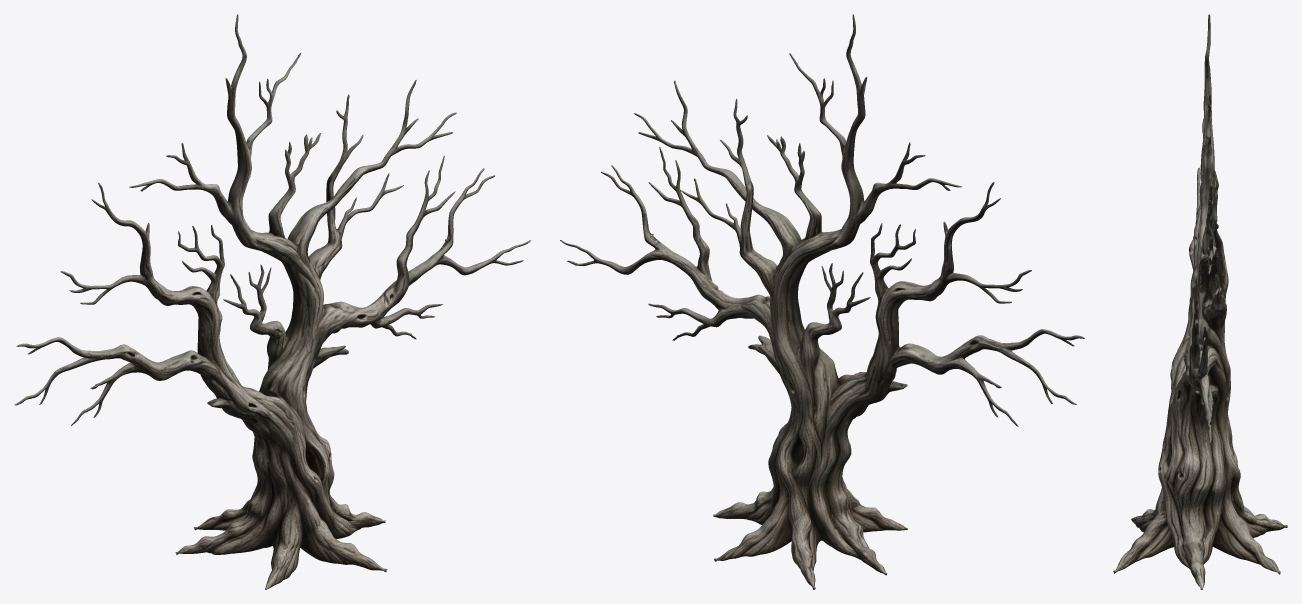
File: dead_tree.glb
3 views of the same model, side by side, from view 1: azimuth 30°, elevation 25°; view 2: azimuth 150°, elevation 25°; view 3: azimuth 270°, elevation 25° (orthographic). The views are drawn at different scales.
Parts seen in each view (by area): view 1: tripo_node_bbcc73c0-8701-4333-9d8e-2df19be19dd3; view 2: tripo_node_bbcc73c0-8701-4333-9d8e-2df19be19dd3; view 3: tripo_node_bbcc73c0-8701-4333-9d8e-2df19be19dd3.
Part boxes in pixels (<box>): tripo_node_bbcc73c0-8701-4333-9d8e-2df19be19dd3: <box>14,14,530,589</box>; tripo_node_bbcc73c0-8701-4333-9d8e-2df19be19dd3: <box>560,14,1084,589</box>; tripo_node_bbcc73c0-8701-4333-9d8e-2df19be19dd3: <box>1113,14,1287,589</box>.
Size of the model in its own units: 0.9799 by 0.9827 by 0.3017.
Materials: 1 (1 with a texture image).
